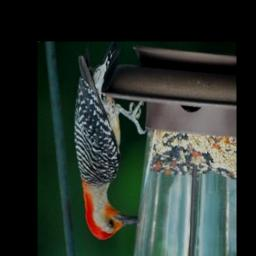Woodpecker: (72, 44, 146, 241)
